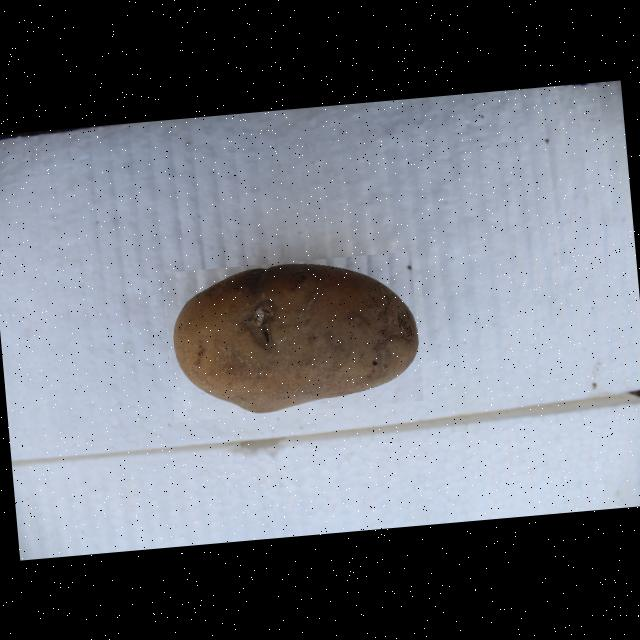Diseased-fungal potato: (162, 251, 424, 422)
